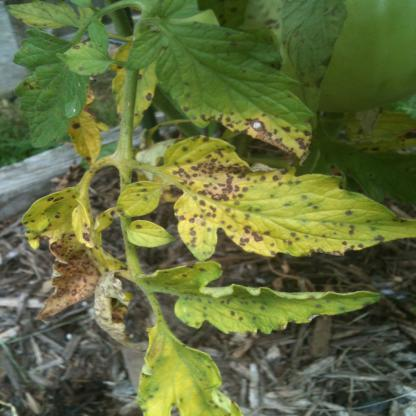tomato septoria leaf spot: (154, 138, 416, 267), (115, 3, 319, 150), (127, 251, 383, 335), (0, 173, 101, 338), (126, 323, 236, 416)
